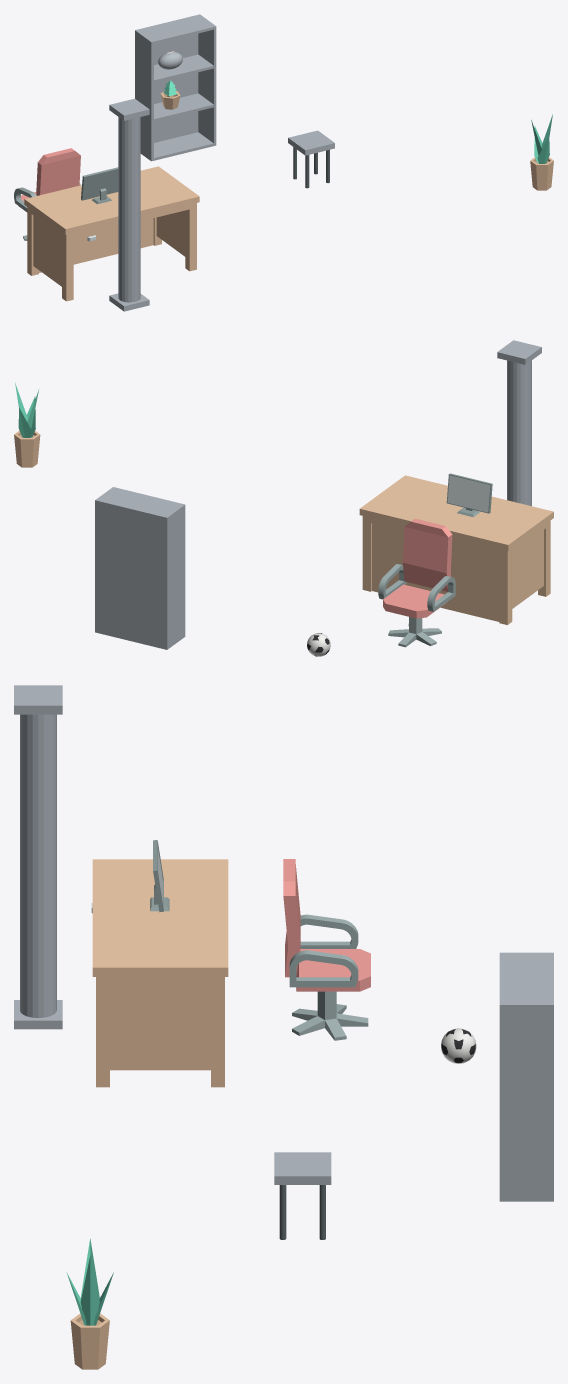
3 renders of one model, top to bottom at view 1: azimuth 30°, elevation 25°; view 2: azimuth 150°, elevation 25°; view 3: azimuth 270°, elevation 25°, orthographic. The views are drawn at different scales.
Parts seen in each view (by area): view 1: desk_blue__desk(Clone), column_cyan__column_cyan shaft, shelf_orange__shelf_orange back, deskchair_black__chair, shelf_orange__shelf_orange side_l, shelf_orange__shelf_orange side_r, shelf_orange__shelf_orange board3, monitor_gray__computerScreen(Clone), shelf_orange__shelf_orange board0, shelf_orange__shelf_orange board1, shelf_orange__shelf_orange board2, stool_purple__stool_purple seat (+6 smaller); view 2: desk_blue__desk(Clone), shelf_orange__shelf_orange back, deskchair_black__chair, column_cyan__column_cyan shaft, shelf_orange__shelf_orange side_l, monitor_gray__computerScreen(Clone), shelf_orange__shelf_orange board3, deskchair_black__chairDesk(Clone), plant_pink__pottedPlant(Clone), column_cyan__column_cyan capital, plant_pink__plant, soccer_white__soccer_white (+1 smaller); view 3: desk_blue__desk(Clone), column_cyan__column_cyan shaft, shelf_orange__shelf_orange side_r, deskchair_black__chair, shelf_orange__shelf_orange board3, deskchair_black__chairDesk(Clone), stool_purple__stool_purple seat, plant_pink__pottedPlant(Clone), column_cyan__column_cyan capital, plant_pink__plant, soccer_white__soccer_white, column_cyan__column_cyan plinth.
Boxes of the visible parts, <box> form: desk_blue__desk(Clone): <box>24,166,199,301</box>; column_cyan__column_cyan shaft: <box>118,117,140,302</box>; shelf_orange__shelf_orange back: <box>137,15,198,142</box>; deskchair_black__chair: <box>14,148,80,212</box>; shelf_orange__shelf_orange side_l: <box>135,29,153,161</box>; shelf_orange__shelf_orange side_r: <box>198,14,216,145</box>; shelf_orange__shelf_orange board3: <box>139,15,213,43</box>; monitor_gray__computerScreen(Clone): <box>81,167,118,204</box>; shelf_orange__shelf_orange board0: <box>154,132,213,160</box>; shelf_orange__shelf_orange board1: <box>154,93,213,121</box>; shelf_orange__shelf_orange board2: <box>154,54,213,82</box>; stool_purple__stool_purple seat: <box>288,130,334,155</box>; desk_blue__desk(Clone): <box>359,475,553,624</box>; shelf_orange__shelf_orange back: <box>98,500,164,648</box>; deskchair_black__chair: <box>378,518,455,618</box>; column_cyan__column_cyan shaft: <box>507,360,531,506</box>; shelf_orange__shelf_orange side_l: <box>164,504,185,649</box>; monitor_gray__computerScreen(Clone): <box>446,473,492,517</box>; shelf_orange__shelf_orange board3: <box>99,487,182,516</box>; deskchair_black__chairDesk(Clone): <box>388,617,441,647</box>; plant_pink__pottedPlant(Clone): <box>14,430,40,467</box>; column_cyan__column_cyan capital: <box>497,340,541,364</box>; plant_pink__plant: <box>15,382,38,437</box>; soccer_white__soccer_white: <box>307,633,330,656</box>; desk_blue__desk(Clone): <box>92,859,228,1087</box>; column_cyan__column_cyan shaft: <box>20,714,56,1017</box>; shelf_orange__shelf_orange side_r: <box>499,1003,553,1201</box>; deskchair_black__chair: <box>283,859,370,991</box>; shelf_orange__shelf_orange board3: <box>499,954,550,1002</box>; deskchair_black__chairDesk(Clone): <box>292,991,368,1040</box>; stool_purple__stool_purple seat: <box>274,1152,331,1184</box>; plant_pink__pottedPlant(Clone): <box>70,1313,109,1369</box>; column_cyan__column_cyan capital: <box>14,685,62,714</box>; plant_pink__plant: <box>66,1238,113,1325</box>; soccer_white__soccer_white: <box>441,1028,476,1063</box>; column_cyan__column_cyan plinth: <box>14,1000,62,1029</box>.
Bounding box in the file's own units: 5.72 × 2.2 × 3.33.
